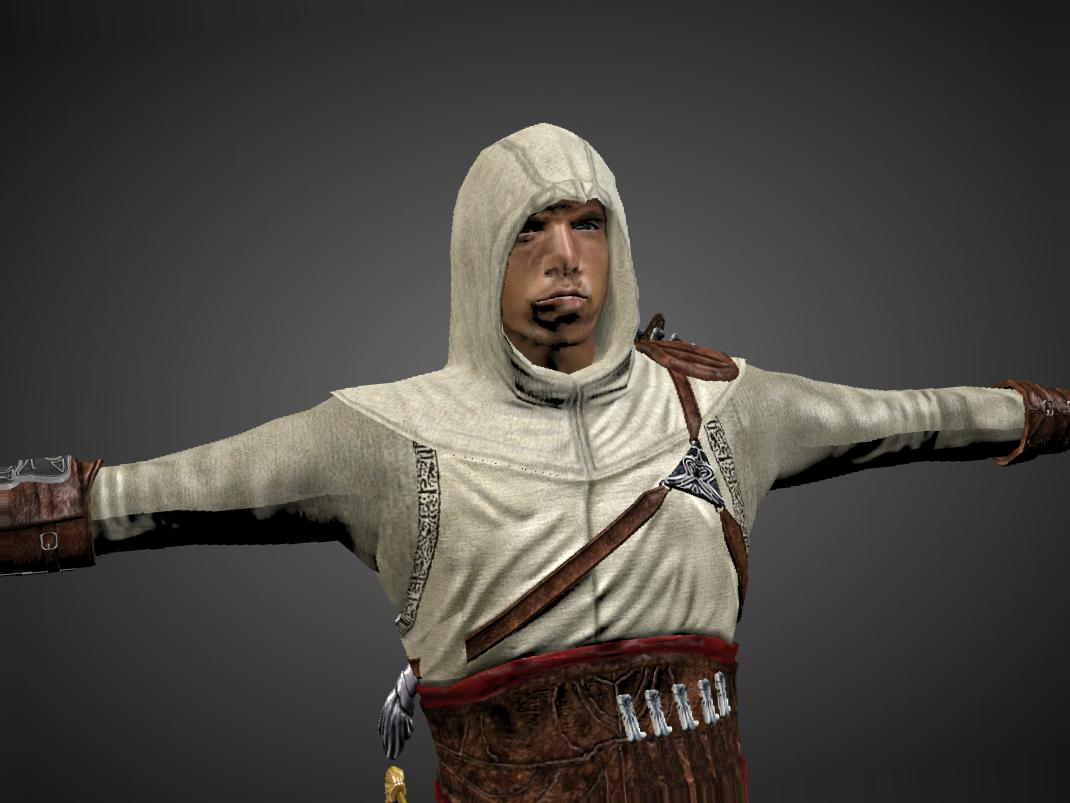clip: (410, 632, 485, 680)
